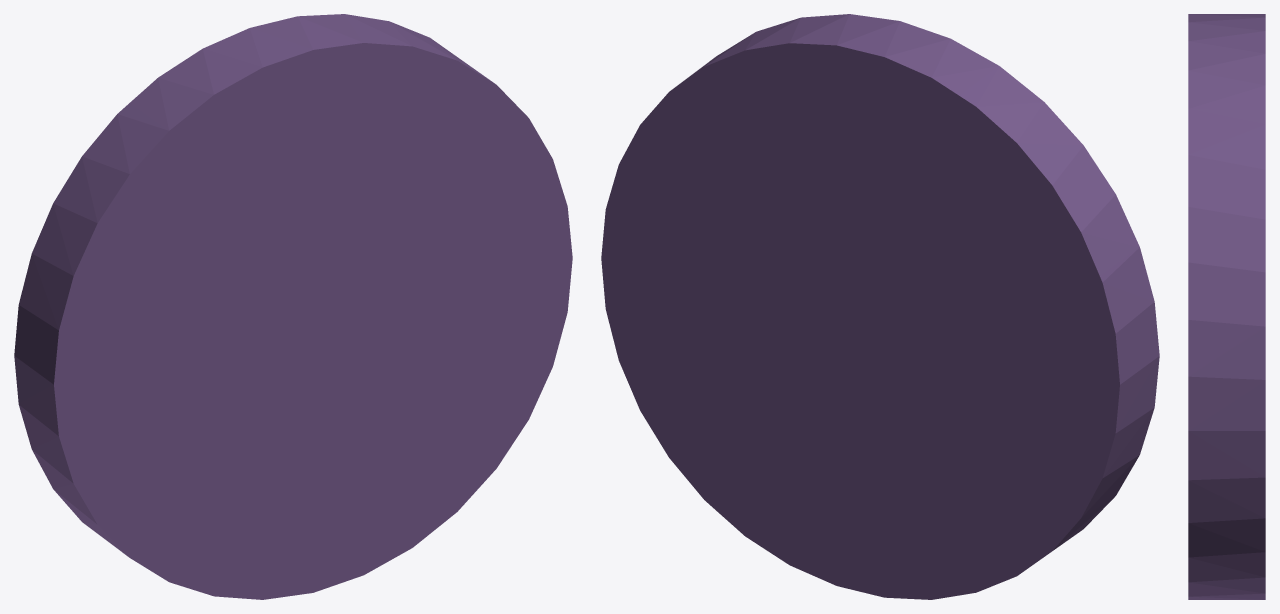
File: forearm_E3M5_collision001.obj
The picture shows the model from 3 angles, left to right: view 1: azimuth 30°, elevation 25°; view 2: azimuth 150°, elevation 25°; view 3: azimuth 270°, elevation 25°; orthographic projection. The views are drawn at different scales.
Size of the model in its own units: 0.135 by 0.135 by 0.0179.
